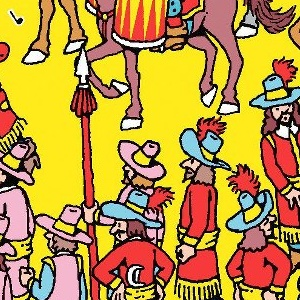Wizard Whitebeard: (186, 126, 210, 174)
